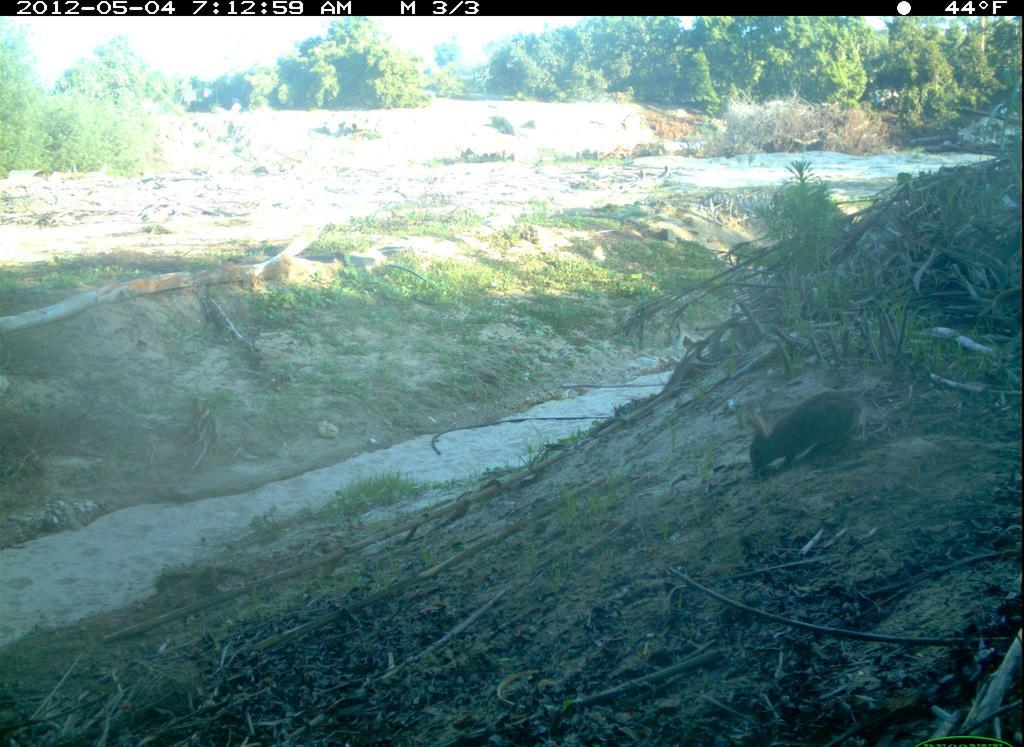rabbit: (740, 383, 879, 484)
